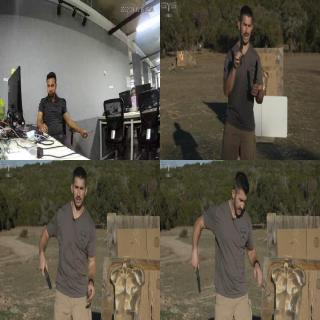knife: (189, 257, 202, 296), (38, 260, 53, 292), (235, 29, 245, 68), (251, 58, 259, 96), (82, 128, 94, 140)
